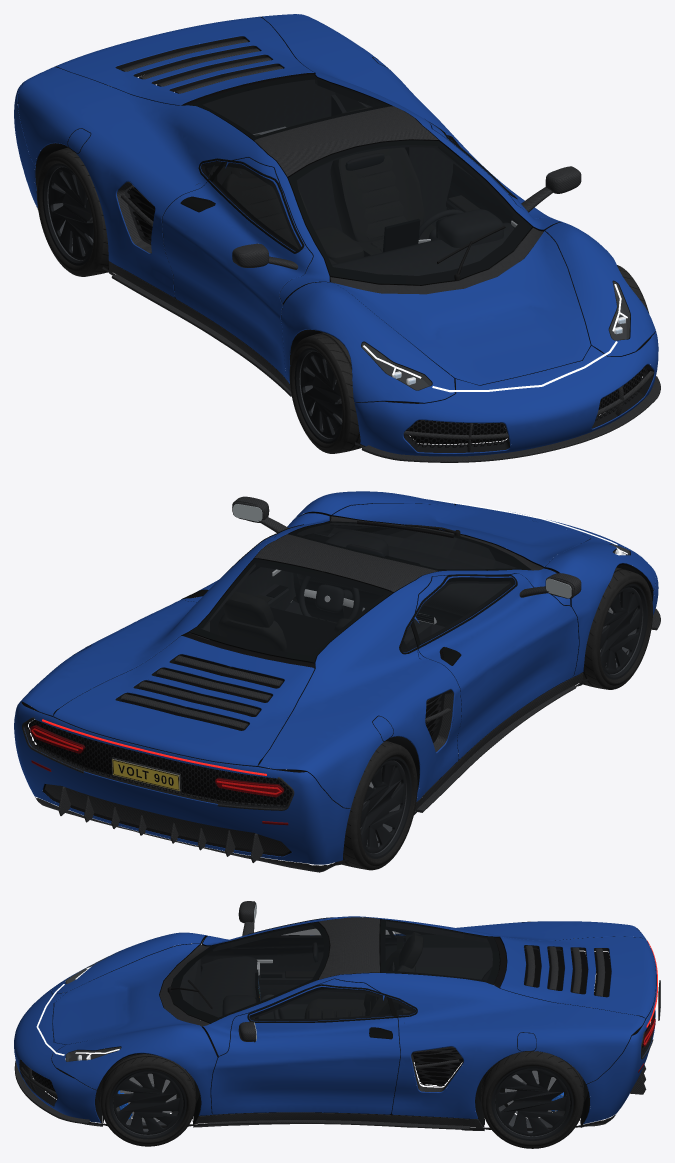
Rendered from electric-hypercar.glb.
3 renders of one model, top to bottom at view 1: azimuth 30°, elevation 25°; view 2: azimuth 150°, elevation 25°; view 3: azimuth 270°, elevation 25°, orthographic. The views are drawn at different scales.
Visible parts, largest first — view 1: Body, Wheel_RR, Wheel_FR; view 2: Body, Wheel_RR, Wheel_FR, Steering_Wheel; view 3: Body, Wheel_RL, Wheel_FL.
Boxes of the visible parts, box(x1,y1,x2,y2) form: Body: box(14, 14, 660, 462); Wheel_RR: box(36, 147, 108, 276); Wheel_FR: box(289, 332, 365, 453); Body: box(14, 491, 660, 872); Wheel_RR: box(335, 741, 417, 870); Wheel_FR: box(579, 567, 652, 689); Steering_Wheel: box(298, 575, 359, 619); Body: box(14, 901, 660, 1130); Wheel_RL: box(481, 1051, 584, 1148); Wheel_FL: box(100, 1054, 196, 1146).
Size of the model in its own units: 2.15 by 1.11 by 4.44.
Materials: 59 (12 with a texture image).
